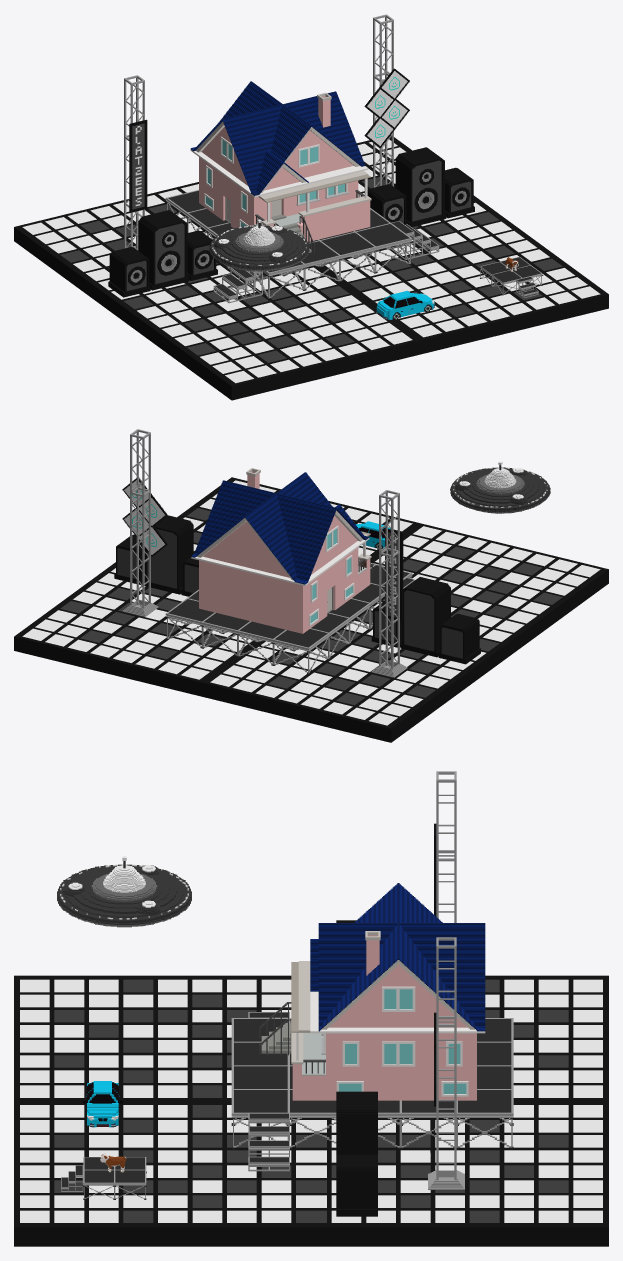
3 renders of one model, top to bottom at view 1: azimuth 30°, elevation 25°; view 2: azimuth 150°, elevation 25°; view 3: azimuth 270°, elevation 25°, orthographic. The views are drawn at different scales.
Visible parts, largest first — view 1: TERRAIN_DISCO_FLOOR, HOUSE_PINK_BLUE, OBJRANDOM_OVNI, VEHICLES_CAR; view 2: TERRAIN_DISCO_FLOOR, HOUSE_PINK_BLUE, OBJRANDOM_OVNI, VEHICLES_CAR; view 3: TERRAIN_DISCO_FLOOR, HOUSE_PINK_BLUE, OBJRANDOM_OVNI, VEHICLES_CAR.
Boxes of the visible parts, x1,y1,x2,y2 form: TERRAIN_DISCO_FLOOR: [14, 14, 608, 400]; HOUSE_PINK_BLUE: [190, 81, 371, 252]; OBJRANDOM_OVNI: [209, 219, 309, 271]; VEHICLES_CAR: [376, 290, 434, 319]; TERRAIN_DISCO_FLOOR: [14, 429, 608, 742]; HOUSE_PINK_BLUE: [191, 468, 372, 633]; OBJRANDOM_OVNI: [450, 461, 550, 513]; VEHICLES_CAR: [355, 521, 390, 550]; TERRAIN_DISCO_FLOOR: [14, 771, 608, 1246]; HOUSE_PINK_BLUE: [259, 883, 485, 1100]; OBJRANDOM_OVNI: [57, 856, 191, 927]; VEHICLES_CAR: [82, 1081, 122, 1127].
Size of the model in its own units: 4000 by 1973 by 4000.
Materials: 29 (21 with a texture image).
